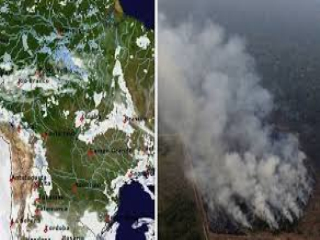smoke: (169, 29, 305, 226)
